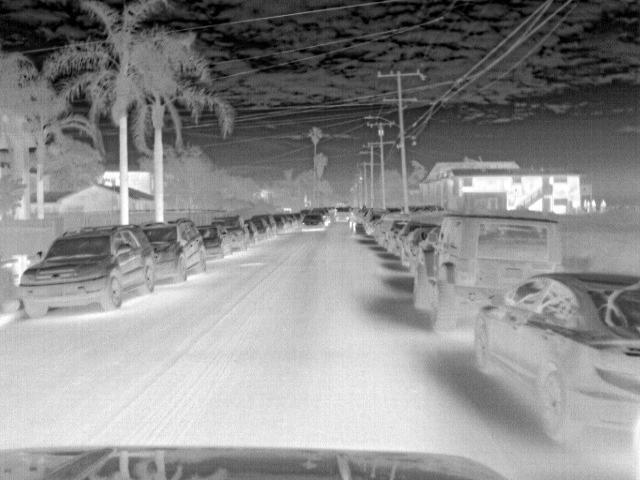car: (472, 269, 637, 463), (409, 214, 564, 329), (19, 224, 154, 320), (139, 214, 206, 288), (398, 225, 436, 269), (213, 213, 248, 252), (198, 224, 230, 262), (388, 218, 409, 254), (299, 212, 330, 232), (411, 204, 451, 216), (241, 219, 257, 244), (260, 214, 277, 236), (252, 219, 268, 240), (272, 214, 288, 234), (333, 204, 349, 222)
person: (346, 211, 358, 232), (598, 198, 608, 213), (589, 197, 597, 212)
